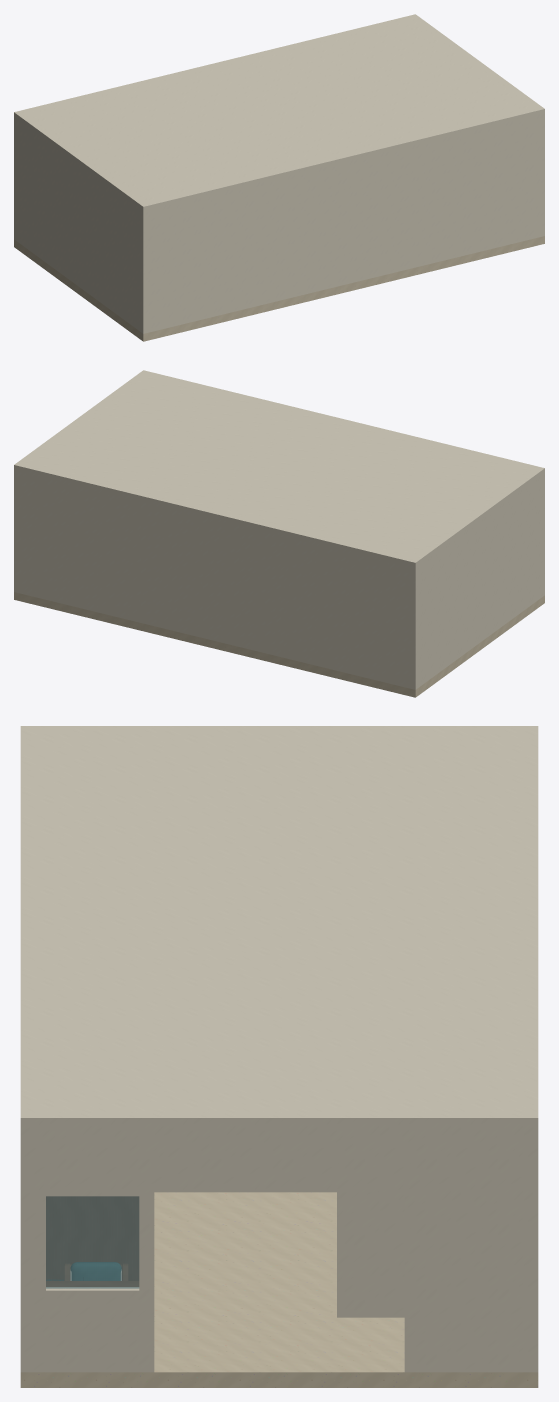
Rendered from StarAtlasSpecialty_145.glb.
3 views of the same model, one above another, from view 1: azimuth 30°, elevation 25°; view 2: azimuth 150°, elevation 25°; view 3: azimuth 270°, elevation 25° (orthographic). The views are drawn at different scales.
Parts seen in each view (by area): view 1: SA145_Ceiling, SA145_NorthSide, SA145_OpaqueRearBoundary, SA145_RoomFloor; view 2: SA145_Ceiling, SA145_SouthSide, SA145_OpaqueRearBoundary, SA145_RoomFloor; view 3: SA145_Ceiling, SA145_RoomFloor, SA145_EntryShoulderSouth, SA145_EntryHeader, SA145_StreetWindowLower, SA145_ScreenedStreetGlass, SA145_WashEntrySide, SA145_StreetWindowUpper, SA145_EntryPrivacyDogleg, SA145_NorthSide, SA145_SouthSide, SA145_StreetWindowOuterPier (+2 smaller).
Boxes of the visible parts, <box> form: SA145_Ceiling: <box>14,14,544,211</box>; SA145_NorthSide: <box>141,114,544,333</box>; SA145_OpaqueRearBoundary: <box>16,119,141,331</box>; SA145_RoomFloor: <box>14,236,544,341</box>; SA145_Ceiling: <box>14,370,544,567</box>; SA145_SouthSide: <box>14,470,417,689</box>; SA145_OpaqueRearBoundary: <box>417,475,542,687</box>; SA145_RoomFloor: <box>14,592,544,697</box>; SA145_Ceiling: <box>20,726,538,1128</box>; SA145_RoomFloor: <box>20,1192,538,1387</box>; SA145_EntryShoulderSouth: <box>404,1128,529,1372</box>; SA145_EntryHeader: <box>150,1128,408,1192</box>; SA145_StreetWindowLower: <box>29,1287,154,1372</box>; SA145_ScreenedStreetGlass: <box>46,1196,139,1288</box>; SA145_WashEntrySide: <box>337,1192,404,1317</box>; SA145_StreetWindowUpper: <box>29,1128,154,1196</box>; SA145_EntryPrivacyDogleg: <box>46,1196,138,1280</box>; SA145_NorthSide: <box>20,1128,29,1372</box>; SA145_SouthSide: <box>529,1128,538,1372</box>; SA145_StreetWindowOuterPier: <box>29,1196,45,1290</box>.
Size of the model in its own units: 12.9 by 4.14 by 7.2.
Materials: 64 (49 with a texture image).
